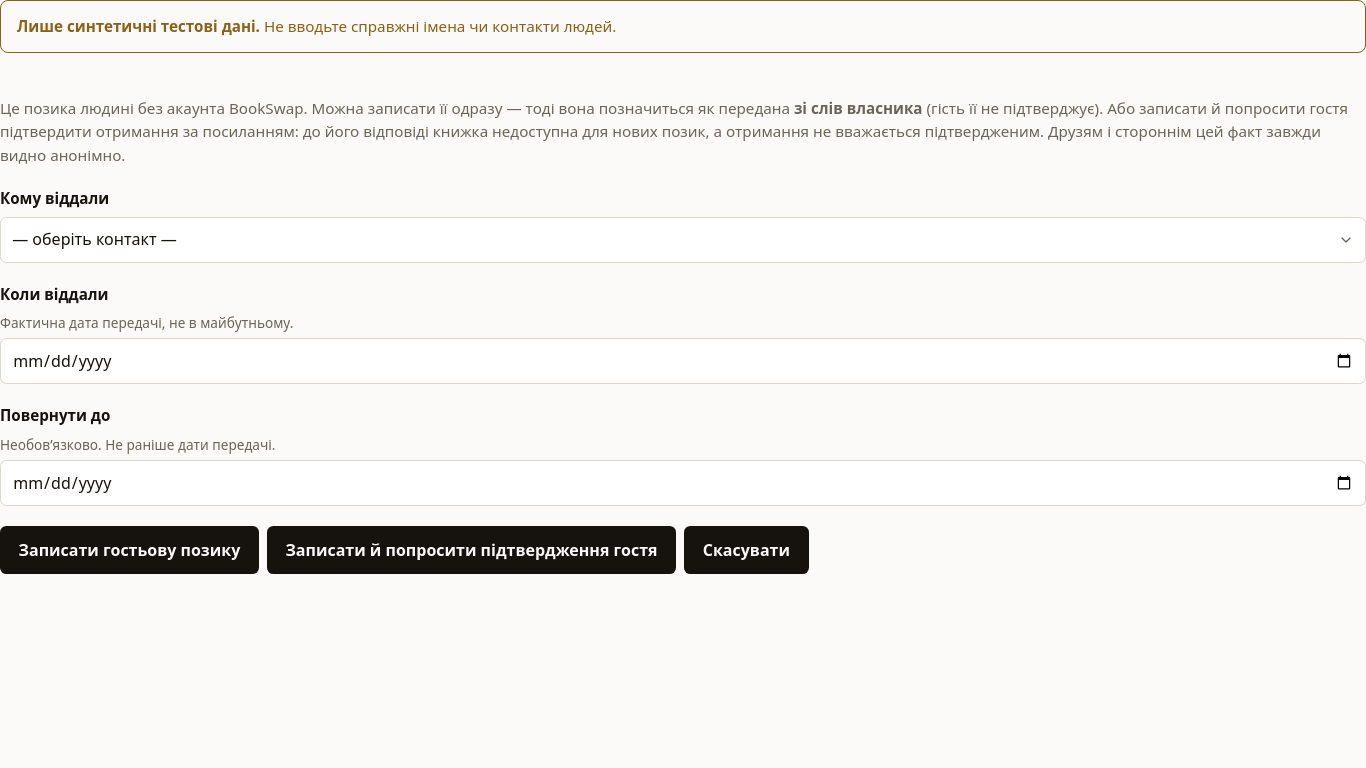
Test case: CreateGuestLoanForm (Stage 10, 10f.3) › error: відмова API показується, форма лишається для повтору (захист від повторного submit знімається)
Click the dropdown named "Кому віддали" at (94, 239), box [0,217,1365,263]
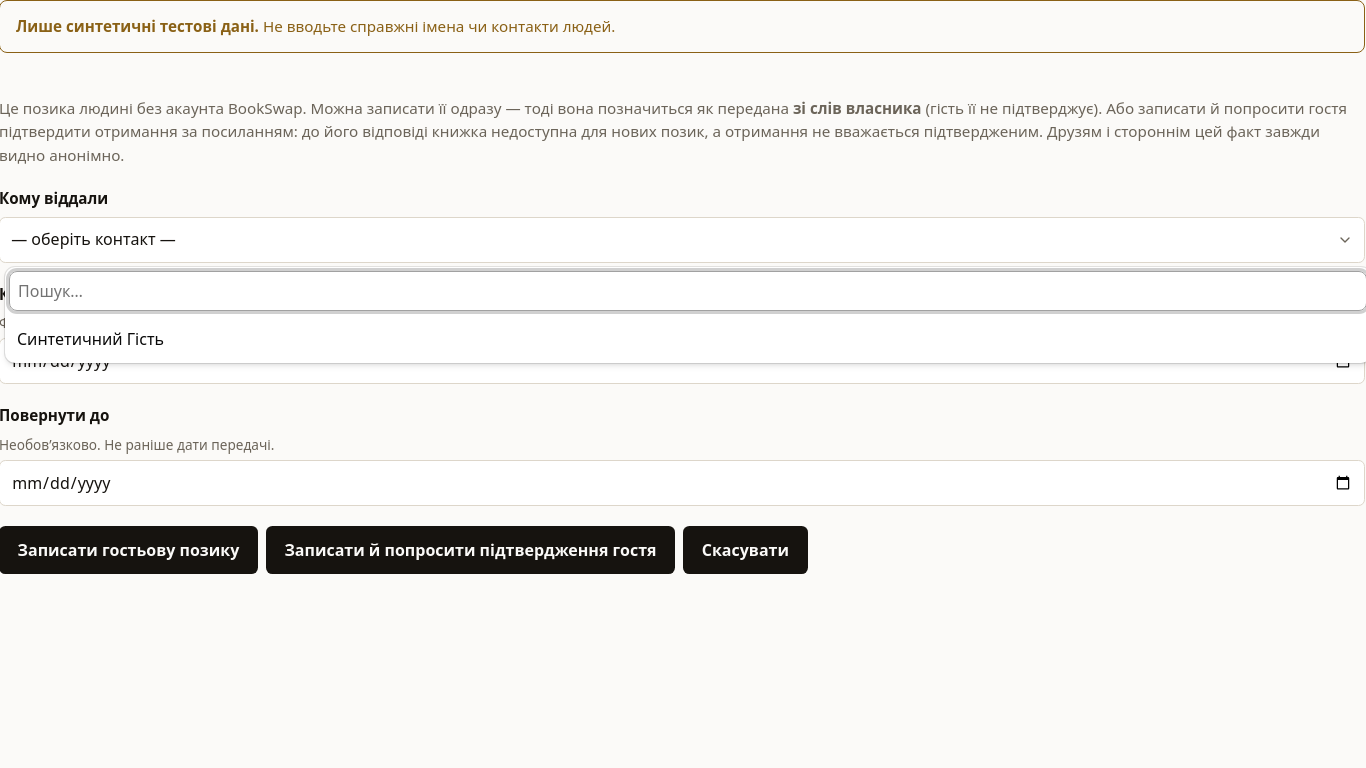
Click the option "Синтетичний Гість" at (90, 339), box [17,328,164,350]
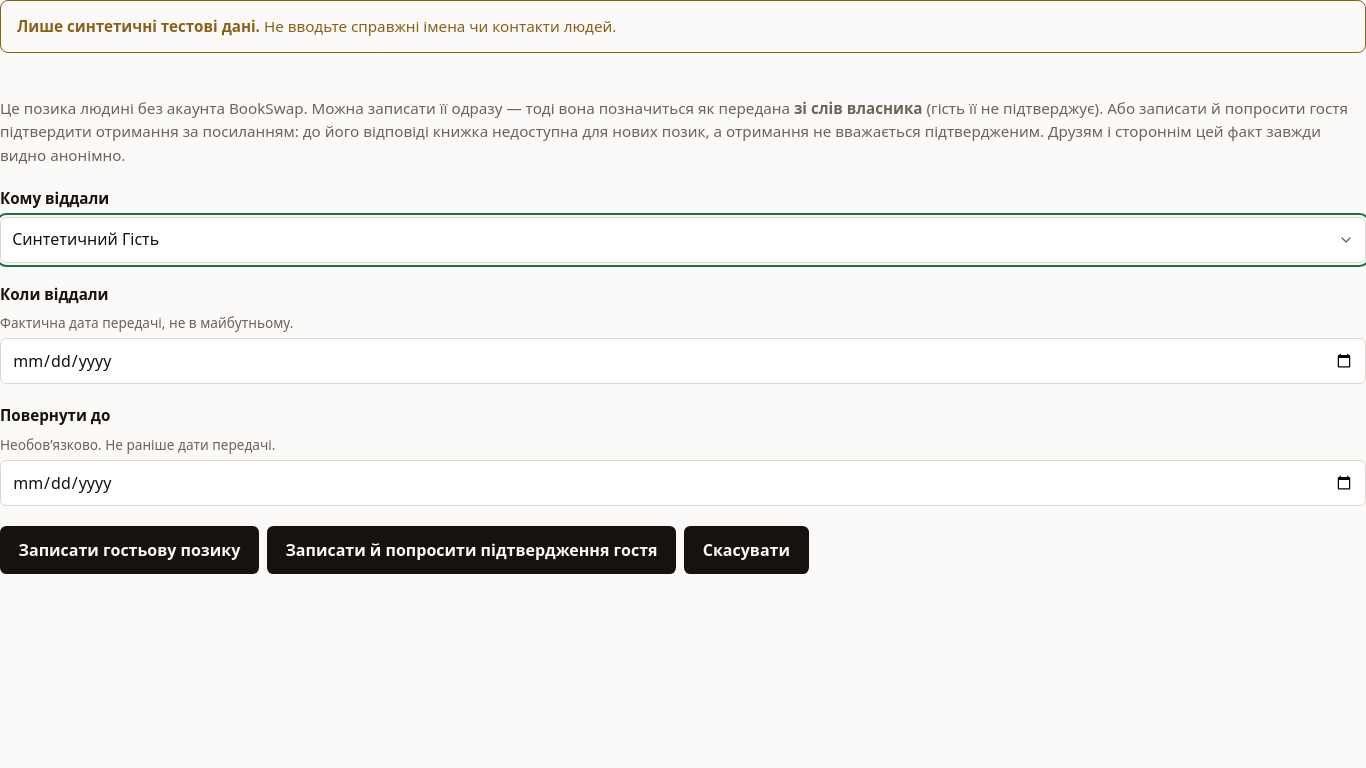
Type "2026-09-01" into the date field labelled "Коли віддали" at (683, 361), box [0,338,1365,384]
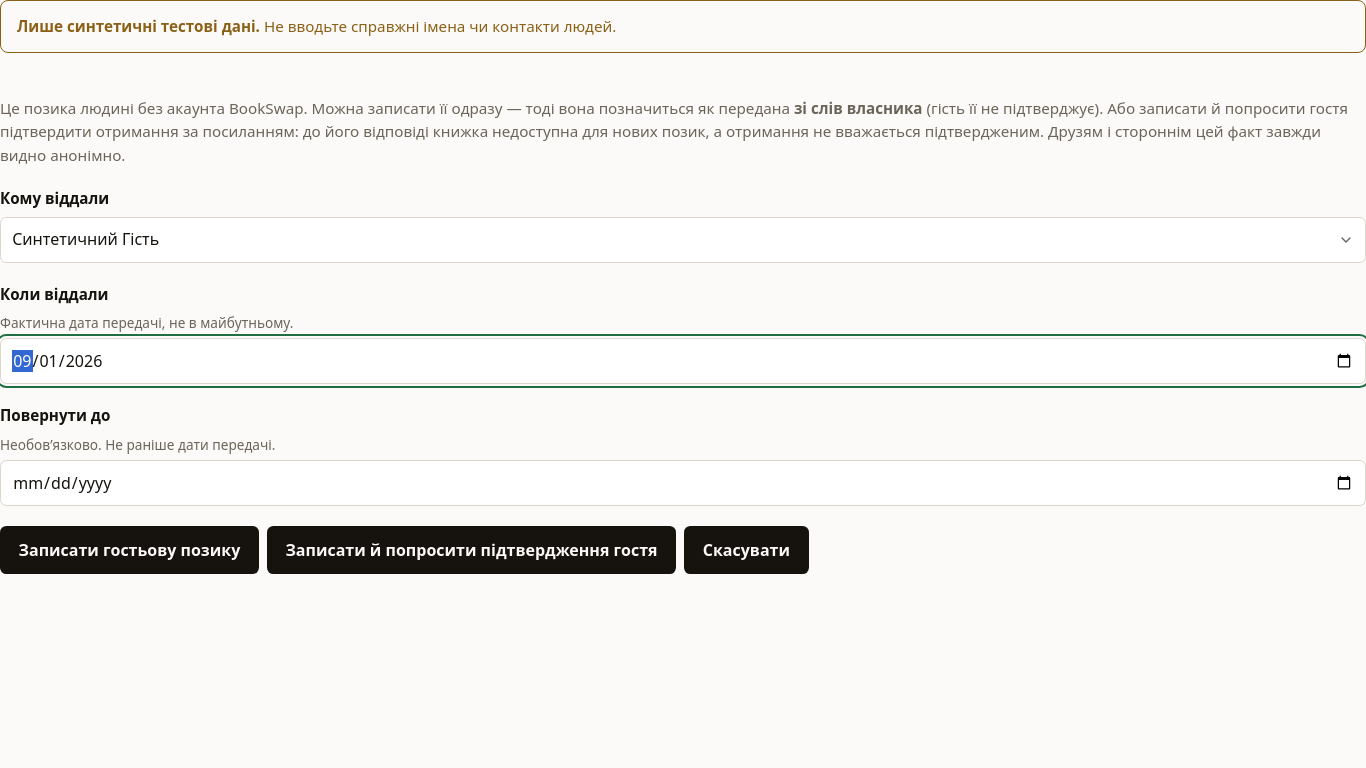
Click the button "Записати гостьову позику" at (129, 550), box [0,526,259,574]
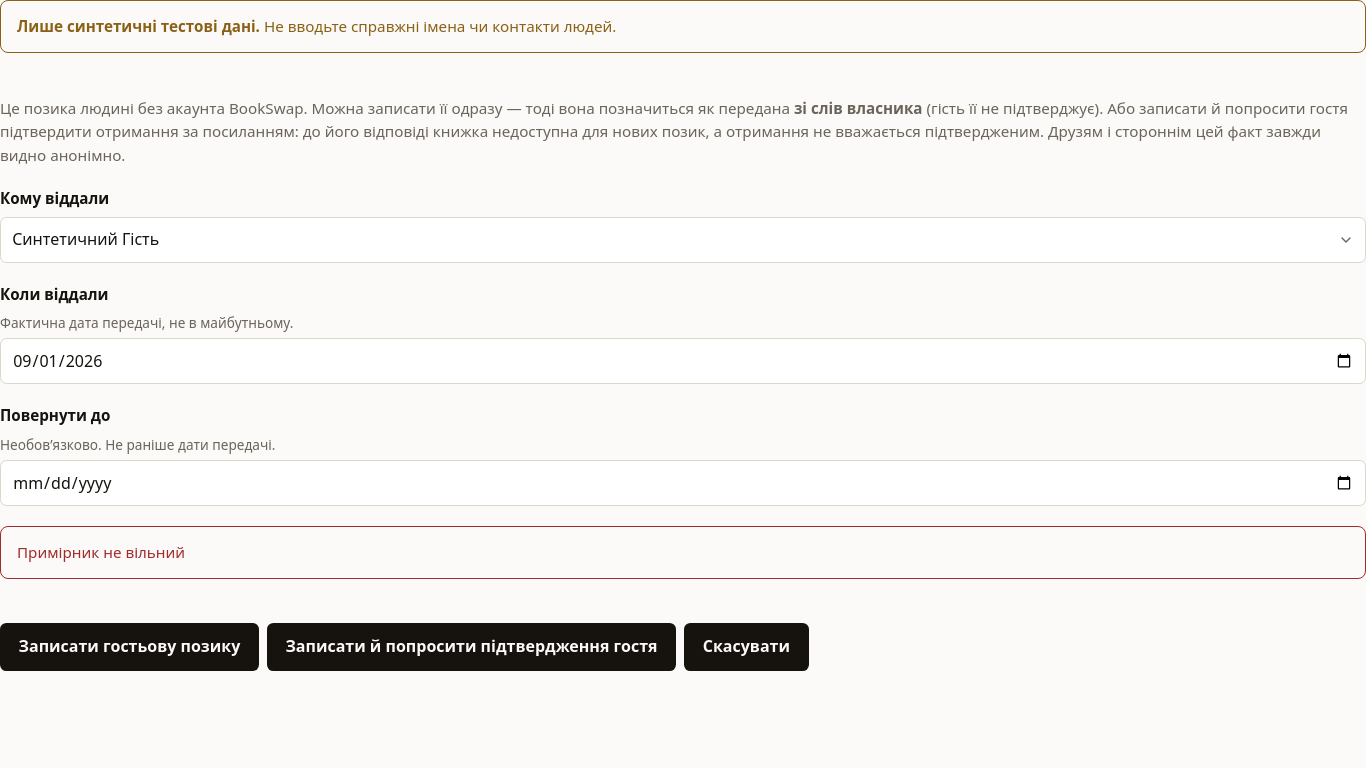
Expected: the button "Записати гостьову позику" is enabled, [0,623,259,670]
Expected: the text "Примірник не вільний" is shown, [17,542,185,562]
